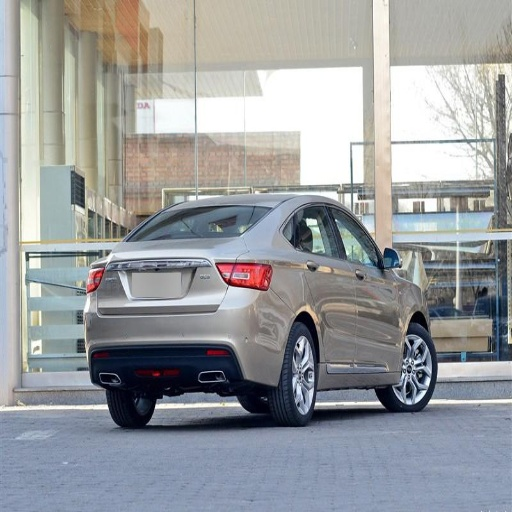back_bumper: (85, 285, 290, 385)
back_right_door: (293, 201, 354, 373)
tailgate: (98, 234, 243, 310)
